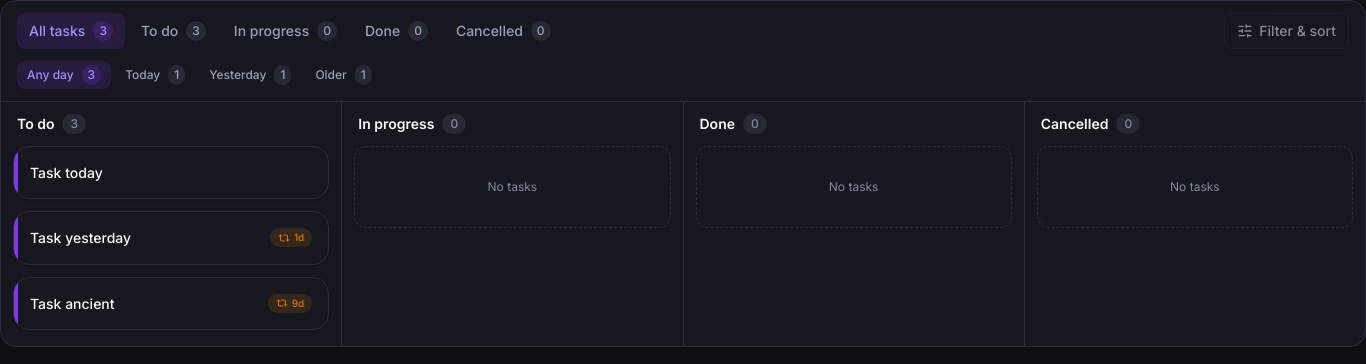
KanbanBoard age filter › narrows the status counts to the chosen age
The width and height of the screenshot is (1366, 364).
Click the tab with aria-label "Older, 1 task" at (344, 75), box [305,61,382,89]
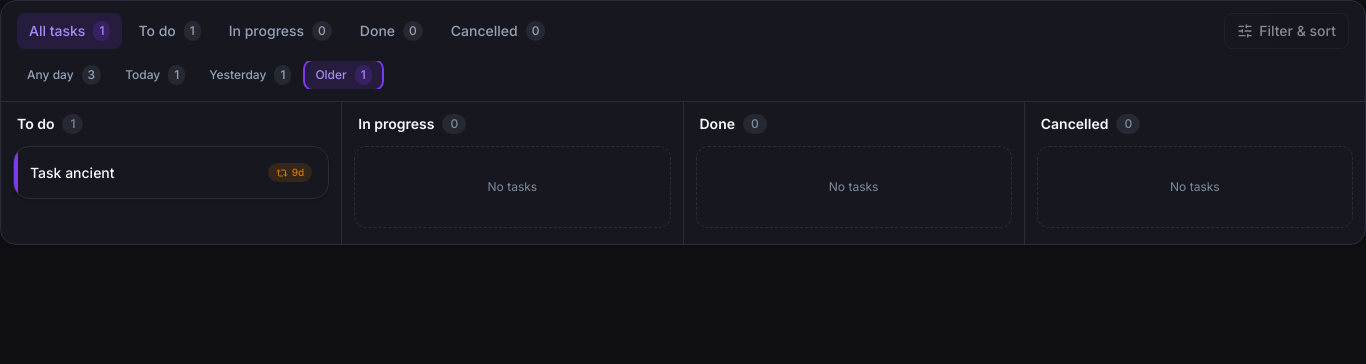
Check: the heading "Task ancient" is shown, box [30,163,115,182]
Check: the element named "To do, 1 task" is shown, box [1,102,342,244]
Check: the tab with aria-label "All tasks, 1 task" is shown, box [17,13,122,49]
